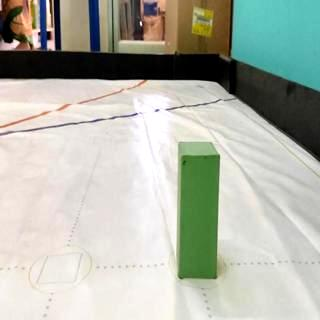greenbox: (178, 142, 222, 280)
